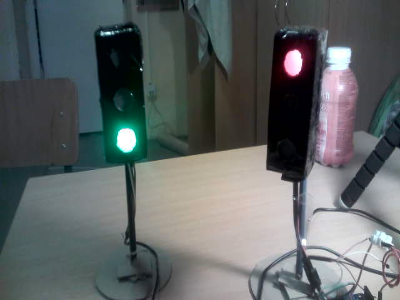trafficlight_green: (99, 29, 146, 159)
trafficlight_red: (264, 34, 317, 168)
